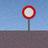sign: (22, 5, 36, 34)
